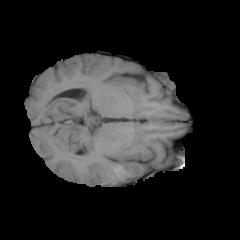glioma: (105, 154, 147, 186)
